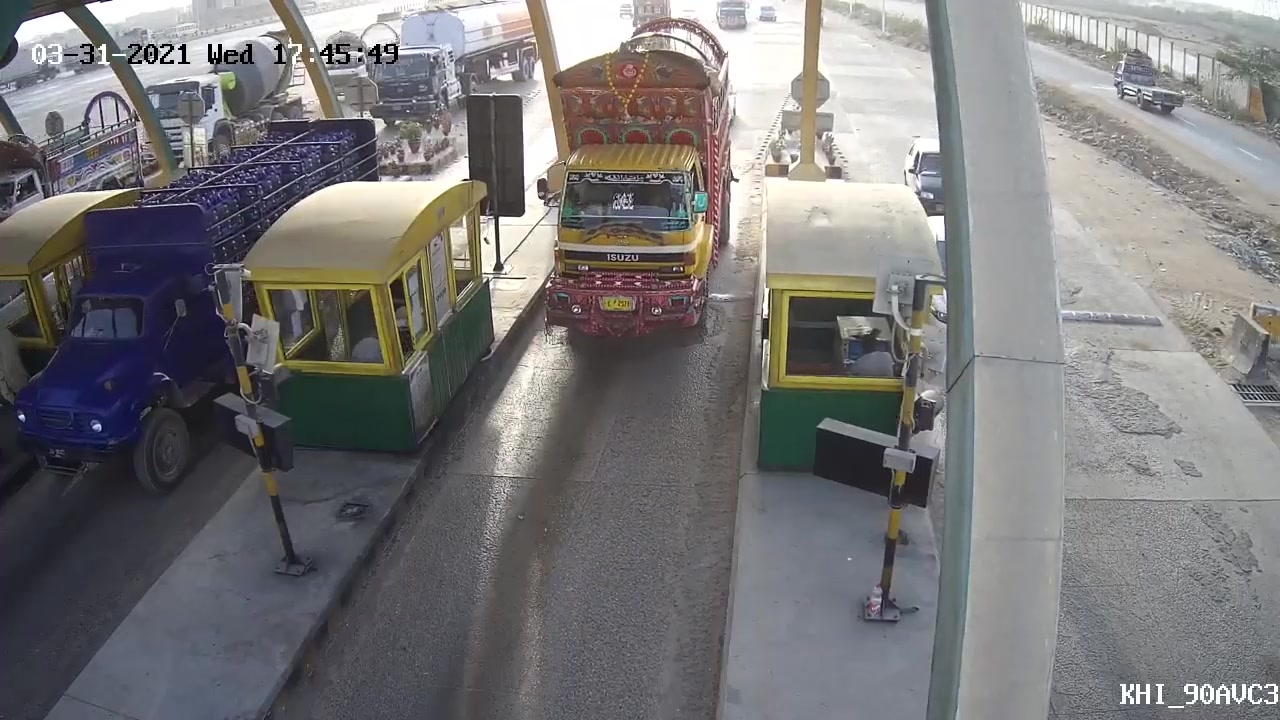F5: (538, 17, 740, 352)
